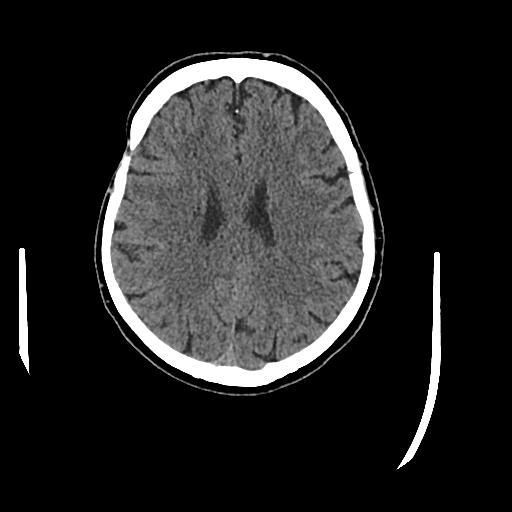Normal_Brain: (81, 46, 398, 395)
